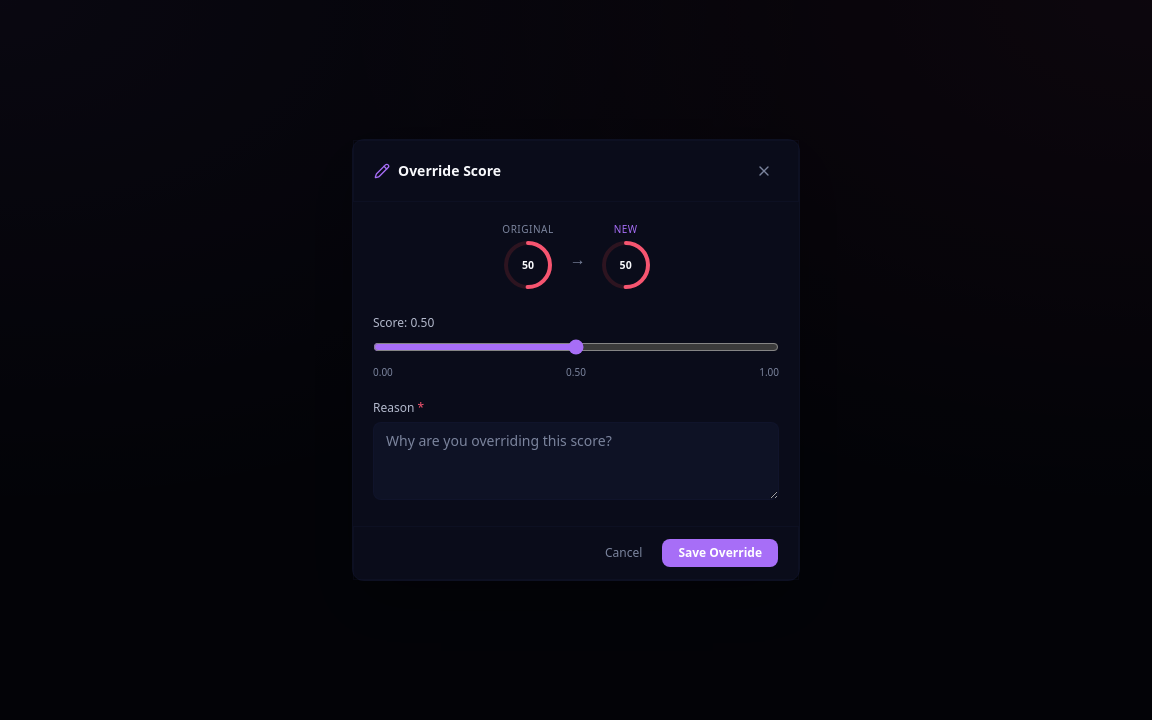
it: OverrideScoreModal › shows error when submitting without reason
Click the button "Save Override".
click(720, 553)  # box [662,539,778,567]
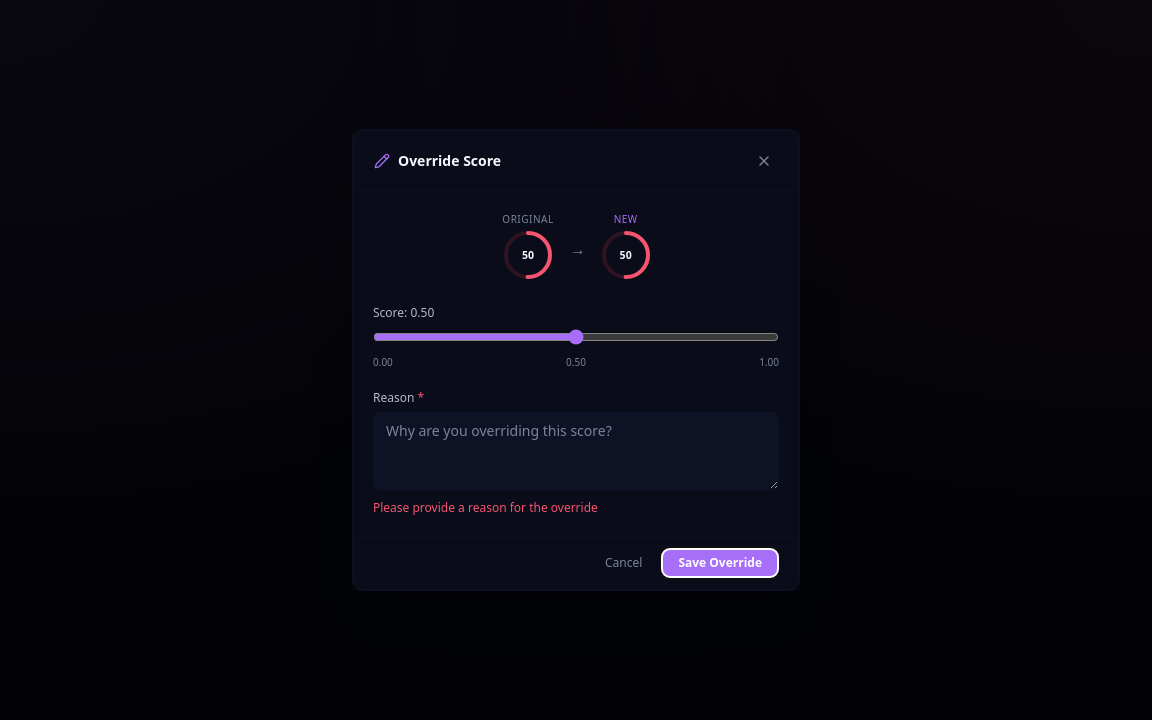
Expected: the text "Please provide a reason for the override" is shown, [373,499,598,516]
